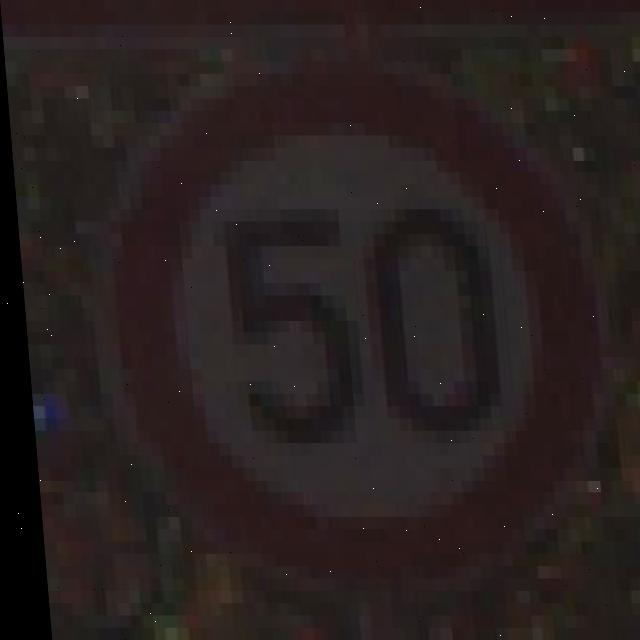Speed limit 50: (1, 1, 640, 639)
